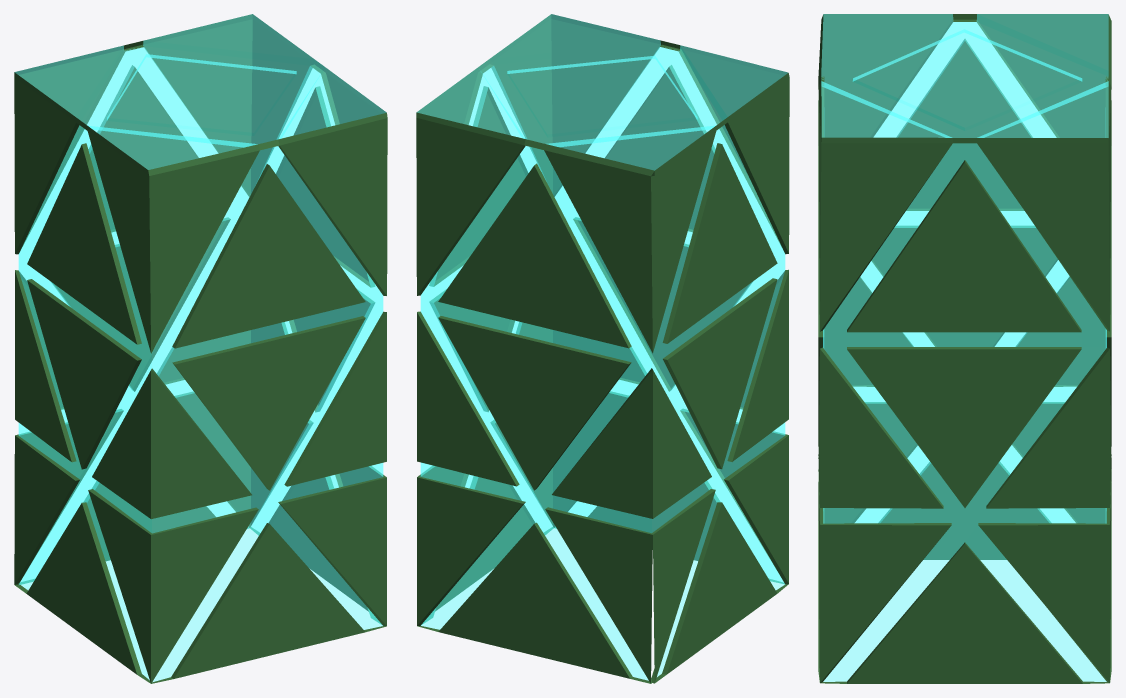
The model's file is greenGlassBuilding_Geo.fbx.
The picture shows the model from 3 angles, left to right: view 1: azimuth 30°, elevation 25°; view 2: azimuth 150°, elevation 25°; view 3: azimuth 270°, elevation 25°; orthographic projection. The views are drawn at different scales.
Visible parts, largest first — view 1: greenGlassBuilding; view 2: greenGlassBuilding; view 3: greenGlassBuilding.
Boxes of the visible parts, bbox=[...] form: greenGlassBuilding: bbox=[14, 14, 387, 683]; greenGlassBuilding: bbox=[416, 14, 789, 683]; greenGlassBuilding: bbox=[818, 14, 1111, 683].
Bounding box in the file's own units: 1553 × 3192 × 1552.
